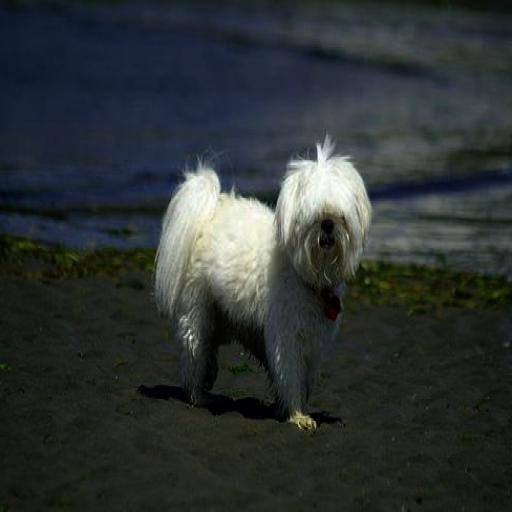dog_face: (274, 146, 371, 287)
